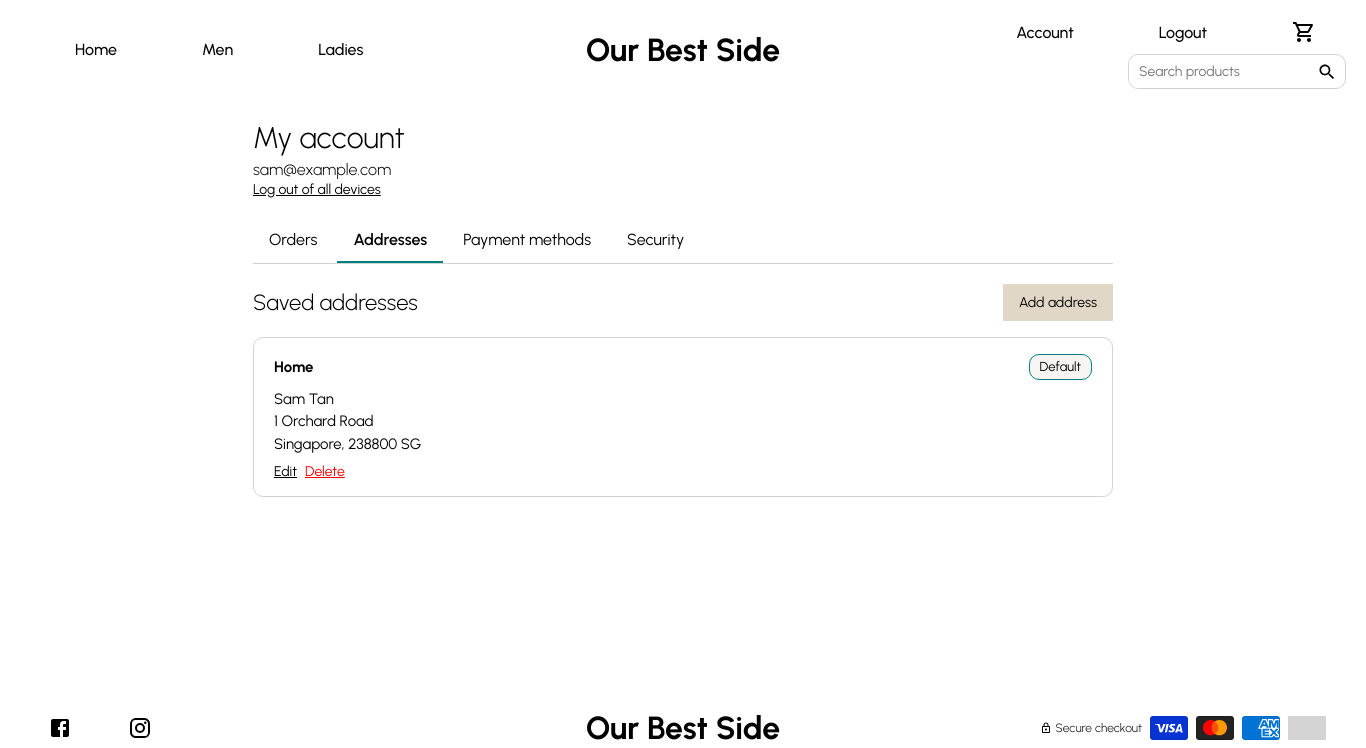
Scenario: Account page › shows server validation errors on the address form
The image size is (1366, 748).
Check: the element with test id "address" is shown, box [253, 337, 1113, 497]
Click the button "Add address".
click(1058, 302)  # box [1003, 284, 1113, 321]
(page scrolled)
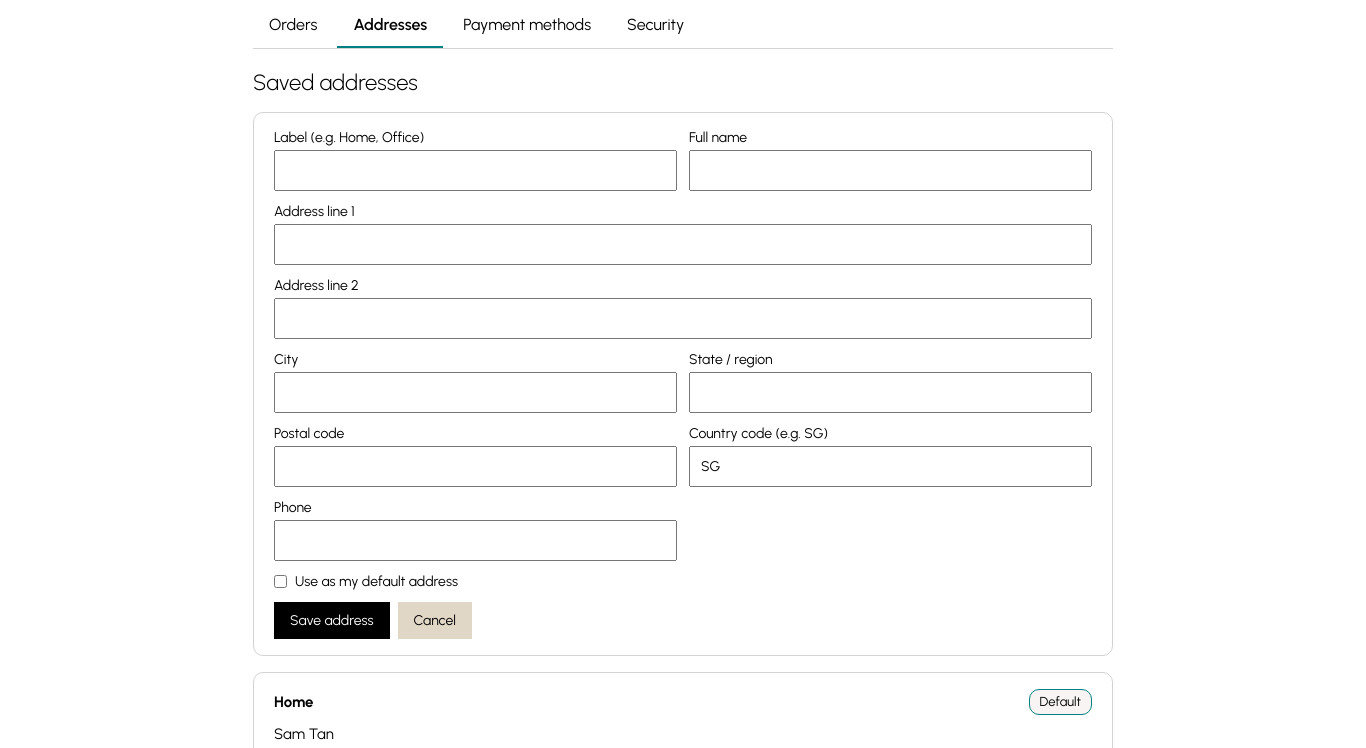
Submit the form named "Address form", box [253, 112, 1113, 656]
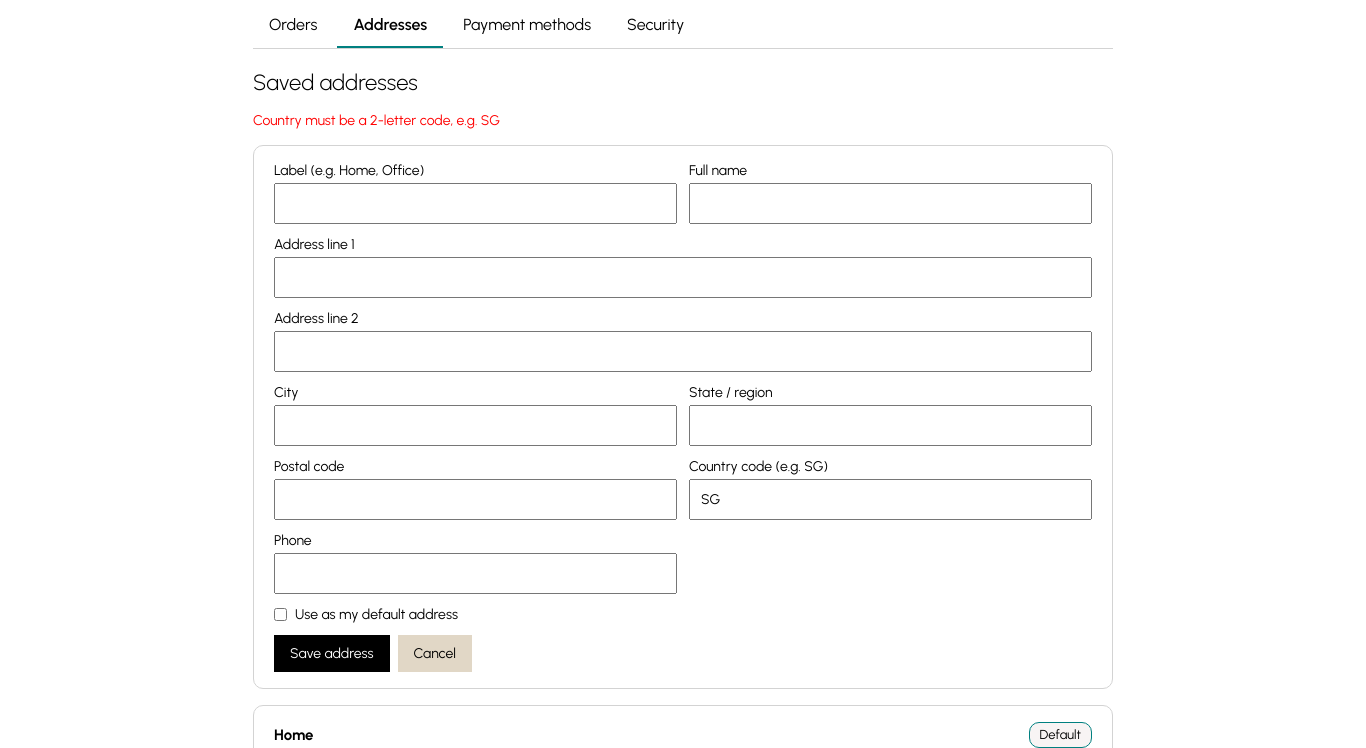
Check: the form named "Address form" is shown, box [253, 145, 1113, 689]
Check: the text "Country must be a 2-letter code, e.g. SG" is shown, box [253, 112, 500, 129]
